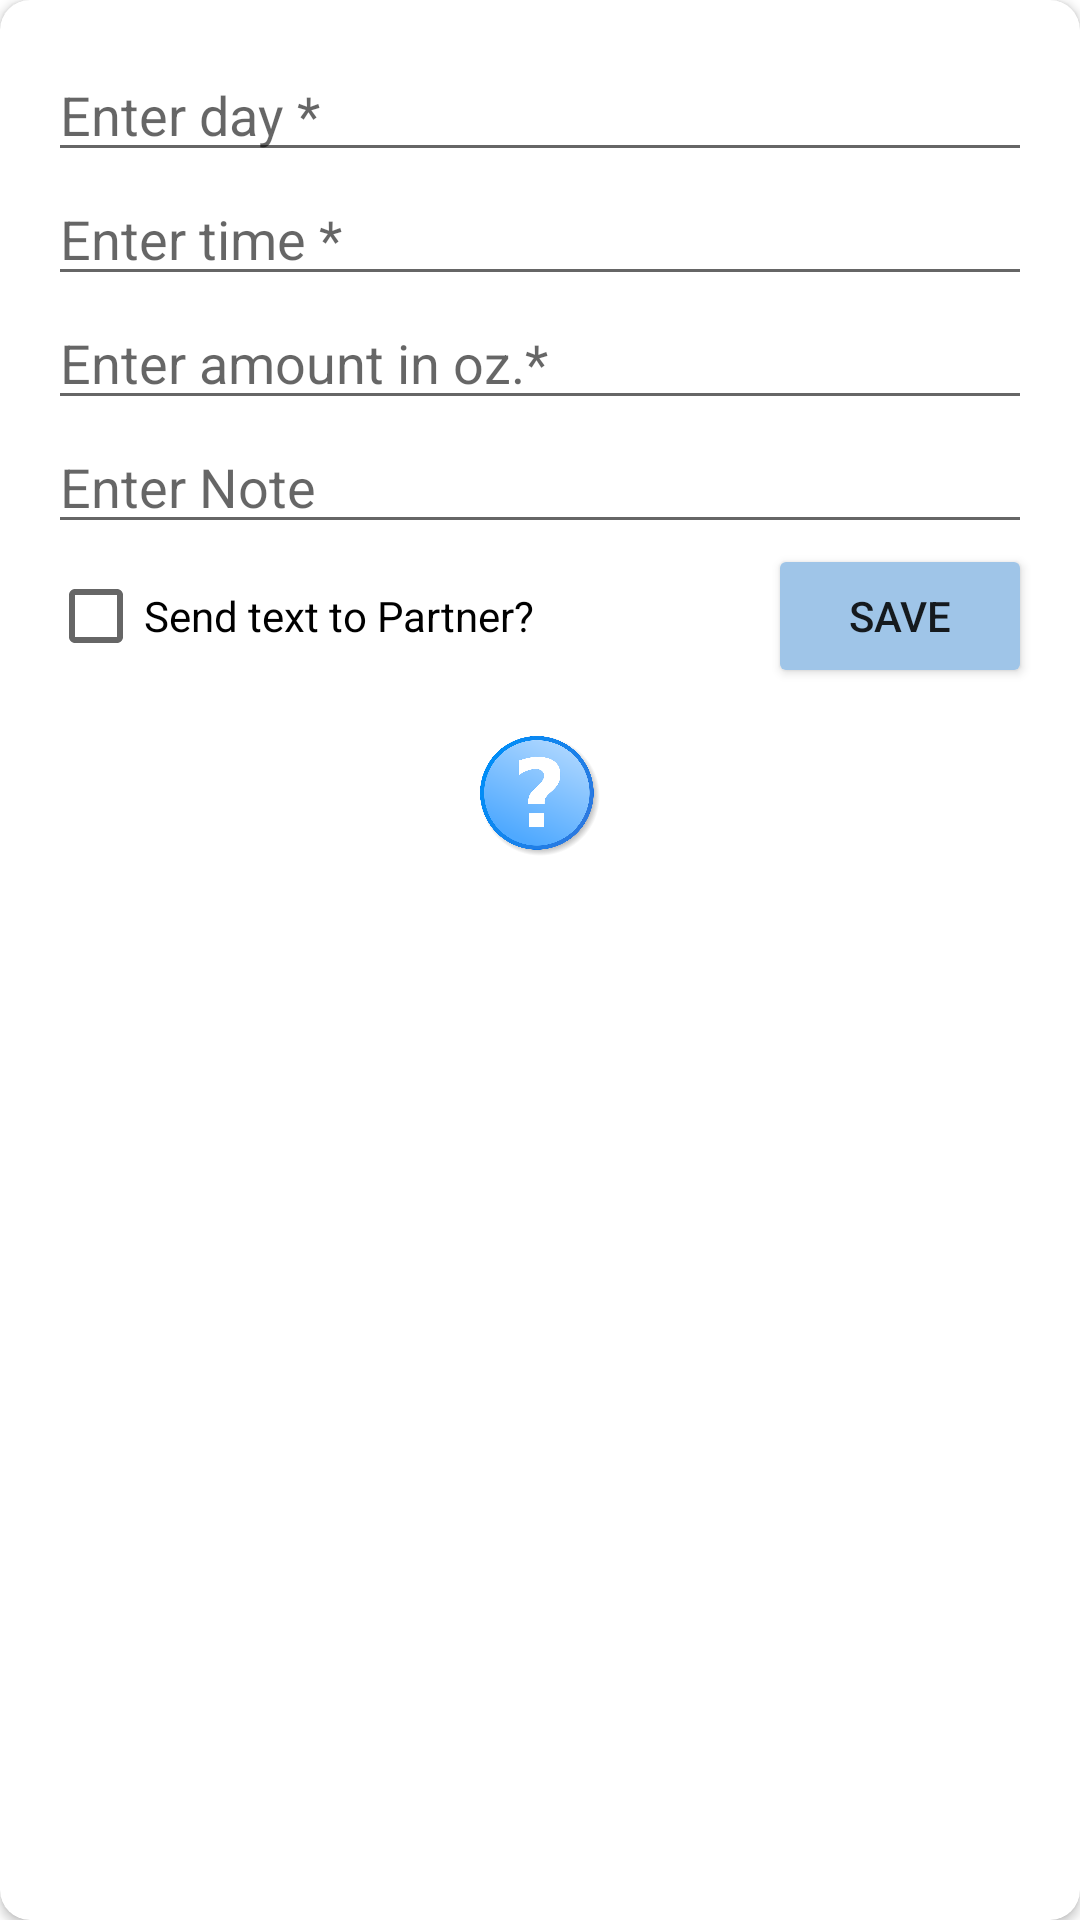

Icon click points for this 1080*1920 phone screenshot, format point (x, y):
question mark: point (538, 794)
